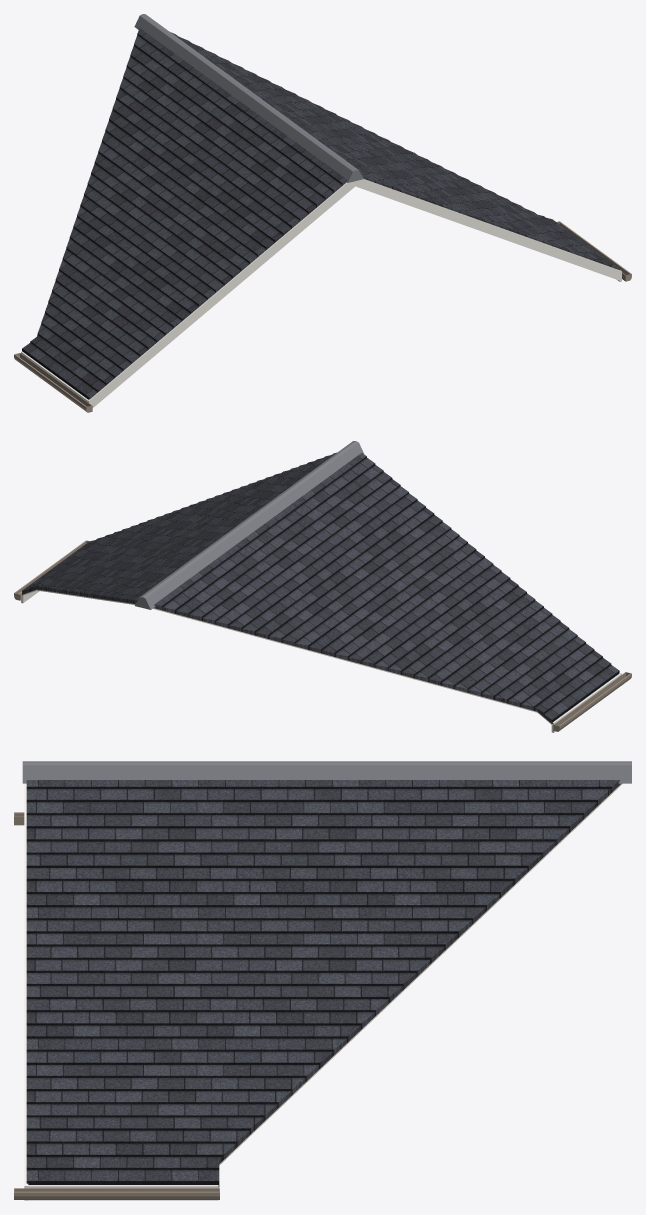
File: porch_roof.glb
3 renders of one model, top to bottom at view 1: azimuth 30°, elevation 25°; view 2: azimuth 150°, elevation 25°; view 3: azimuth 270°, elevation 25°, orthographic. The views are drawn at different scales.
Parts seen in each view (by area): view 1: porch_roof_shingles, porch_roof_trim, porch_roof_ridge, porch_roof_gutter; view 2: porch_roof_shingles, porch_roof_ridge, porch_roof_gutter, porch_roof_plaster, porch_roof_trim; view 3: porch_roof_shingles, porch_roof_ridge, porch_roof_gutter, porch_roof_trim, porch_roof_plaster.
Part boxes in pixels (left/top/right/bottom): porch_roof_shingles: left=22, top=28, right=619, bottom=399; porch_roof_trim: left=21, top=179, right=621, bottom=407; porch_roof_ridge: left=134, top=14, right=363, bottom=182; porch_roof_gutter: left=14, top=221, right=631, bottom=412; porch_roof_shingles: left=22, top=452, right=619, bottom=723; porch_roof_ridge: left=134, top=441, right=363, bottom=609; porch_roof_gutter: left=14, top=540, right=631, bottom=731; porch_roof_plaster: left=22, top=589, right=552, bottom=724; porch_roof_trim: left=21, top=543, right=621, bottom=732; porch_roof_shingles: left=26, top=780, right=620, bottom=1186; porch_roof_ridge: left=22, top=761, right=631, bottom=783; porch_roof_gutter: left=14, top=812, right=219, bottom=1199; porch_roof_trim: left=24, top=783, right=218, bottom=1200; porch_roof_plaster: left=218, top=783, right=622, bottom=1187.
Size of the model in its own units: 11.22 by 3.47 by 7.71.
Materials: 5 (2 with a texture image).
